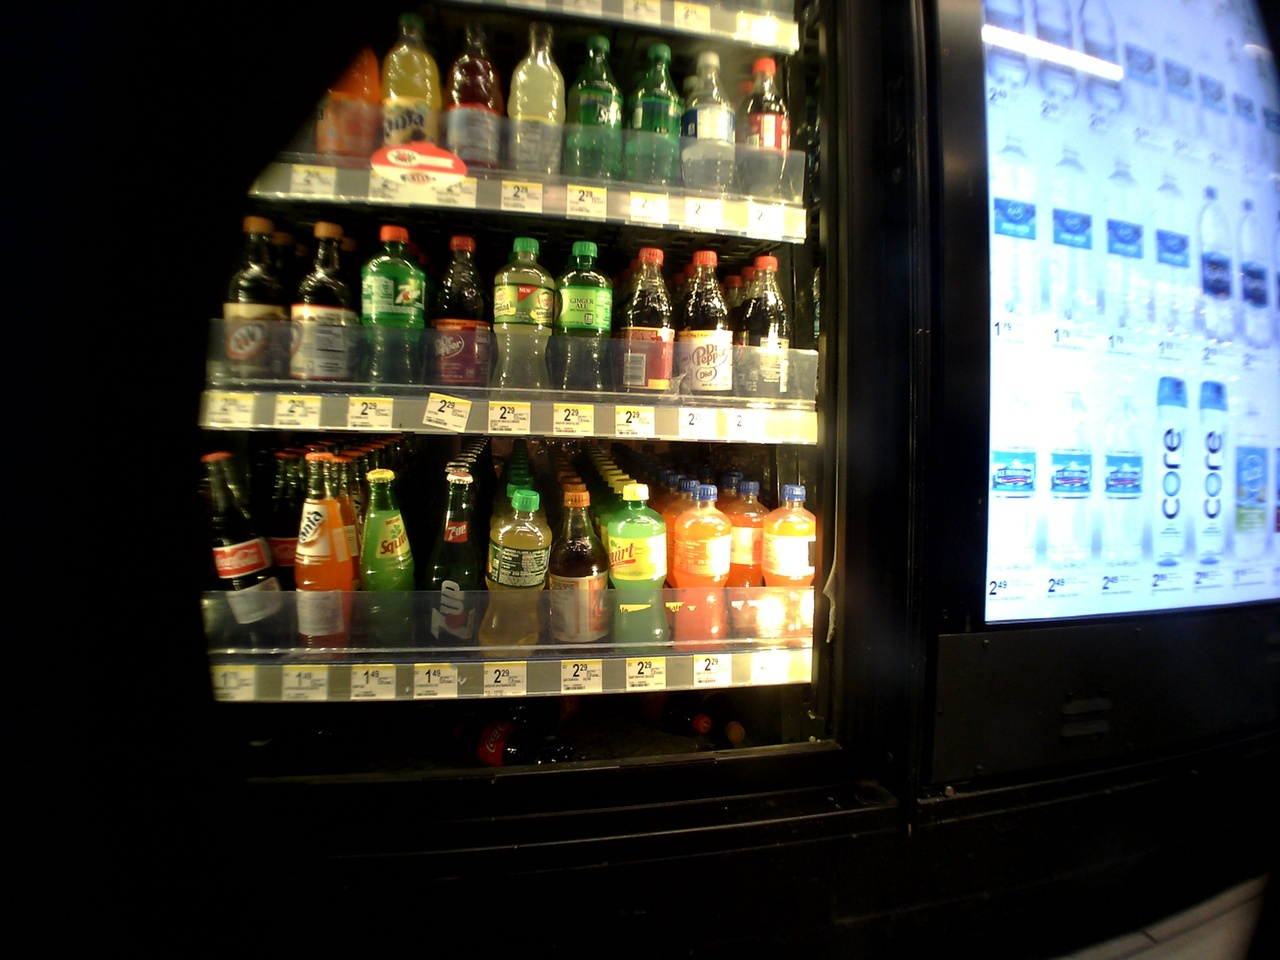shelf: (197, 446, 819, 696), (207, 195, 815, 445), (208, 1, 803, 243)
